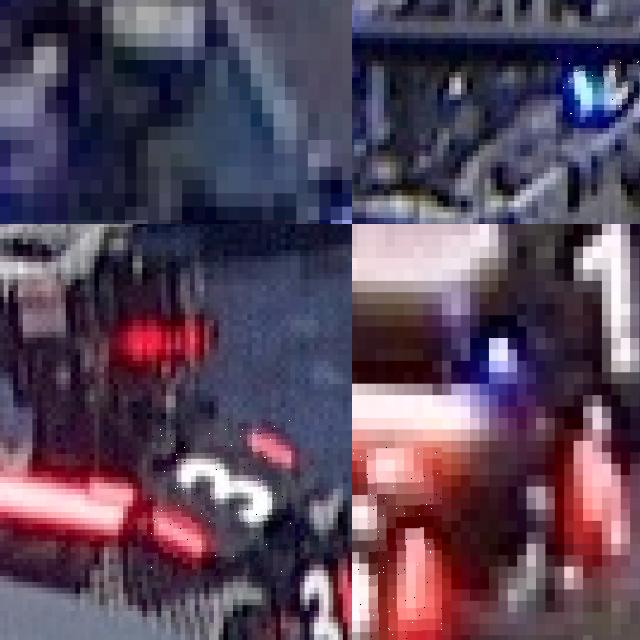B2: (556, 44, 639, 117)
R3: (147, 419, 295, 576), (285, 558, 352, 640)
R5: (352, 446, 442, 640)
